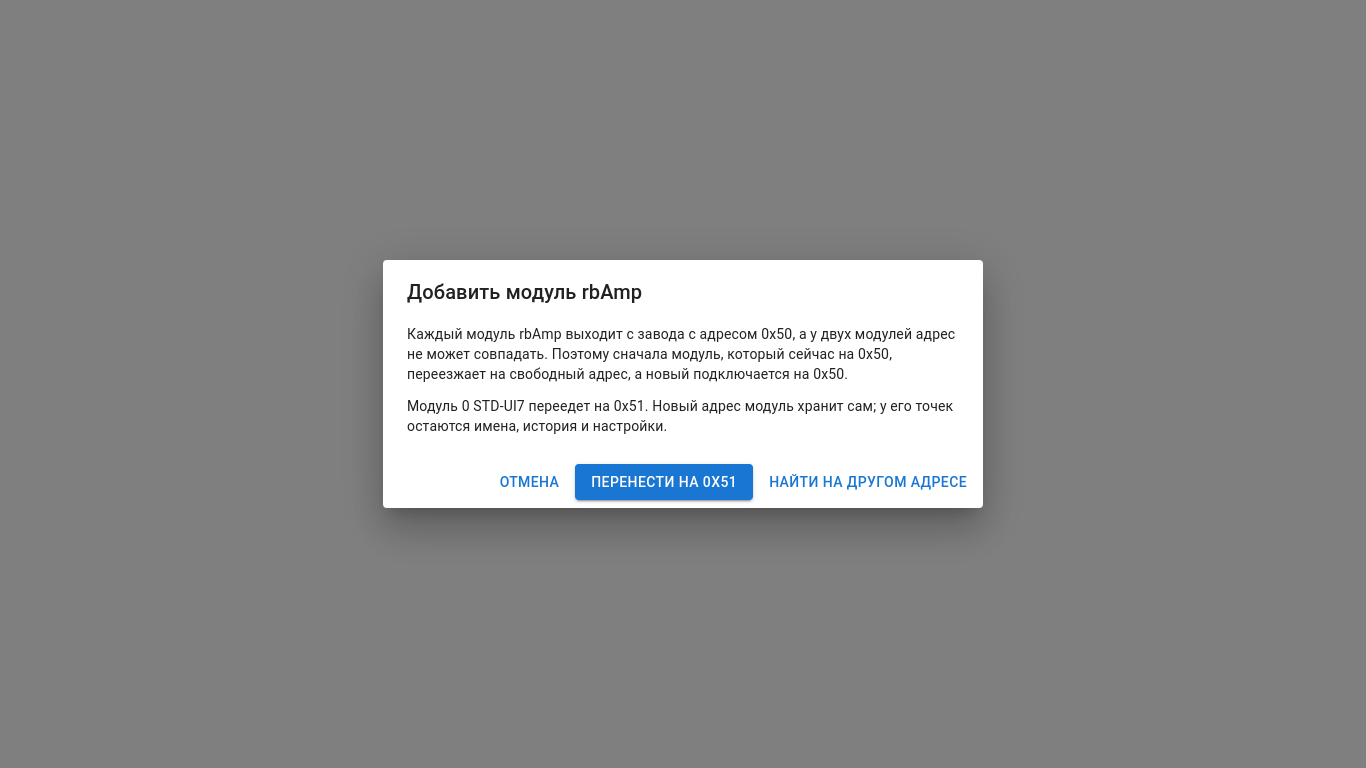
AddModuleDialog › a module already at another address is added without freeing 0x50 (root 03.11)
The width and height of the screenshot is (1366, 768).
Later steps or results of the test are not shown.
Click the button "Найти на другом адресе". click: (868, 482)
box: [761,464,975,500]
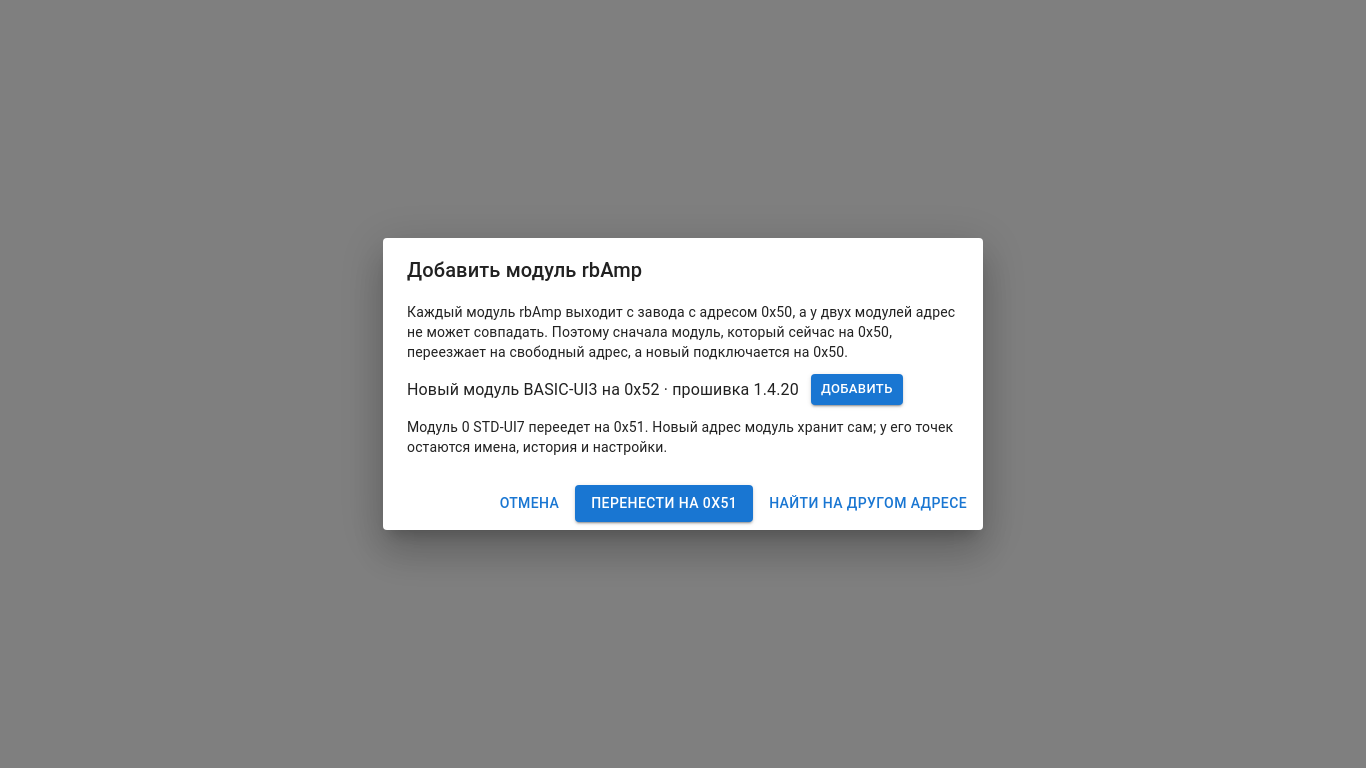
Now the text "Новый модуль BASIC-UI3 на 0x52 · прошивка 1.4.20" is shown, box [407,378,799,402]
